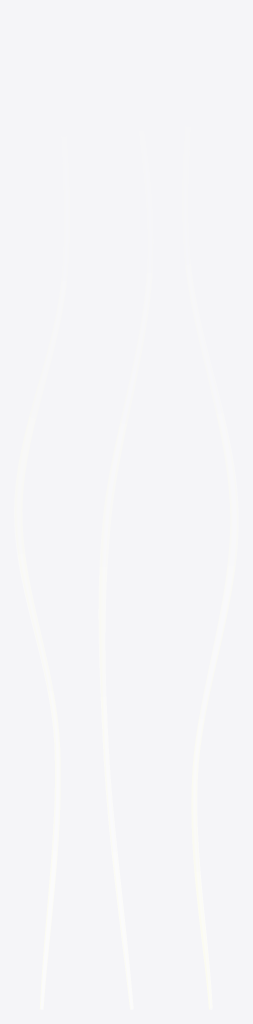
The model's file is strand_d_cairn.glb.
The picture shows the model from 3 angles, left to right: view 1: azimuth 90°, elevation 25°; view 2: azimuth 150°, elevation 25°; view 3: azimuth 270°, elevation 25°; orthographic projection.
Bounding box in the file's own units: 0.3336 × 7 × 0.3586.
